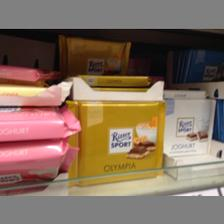Schokolade: (63, 96, 163, 184), (162, 96, 214, 156), (58, 33, 130, 73)
